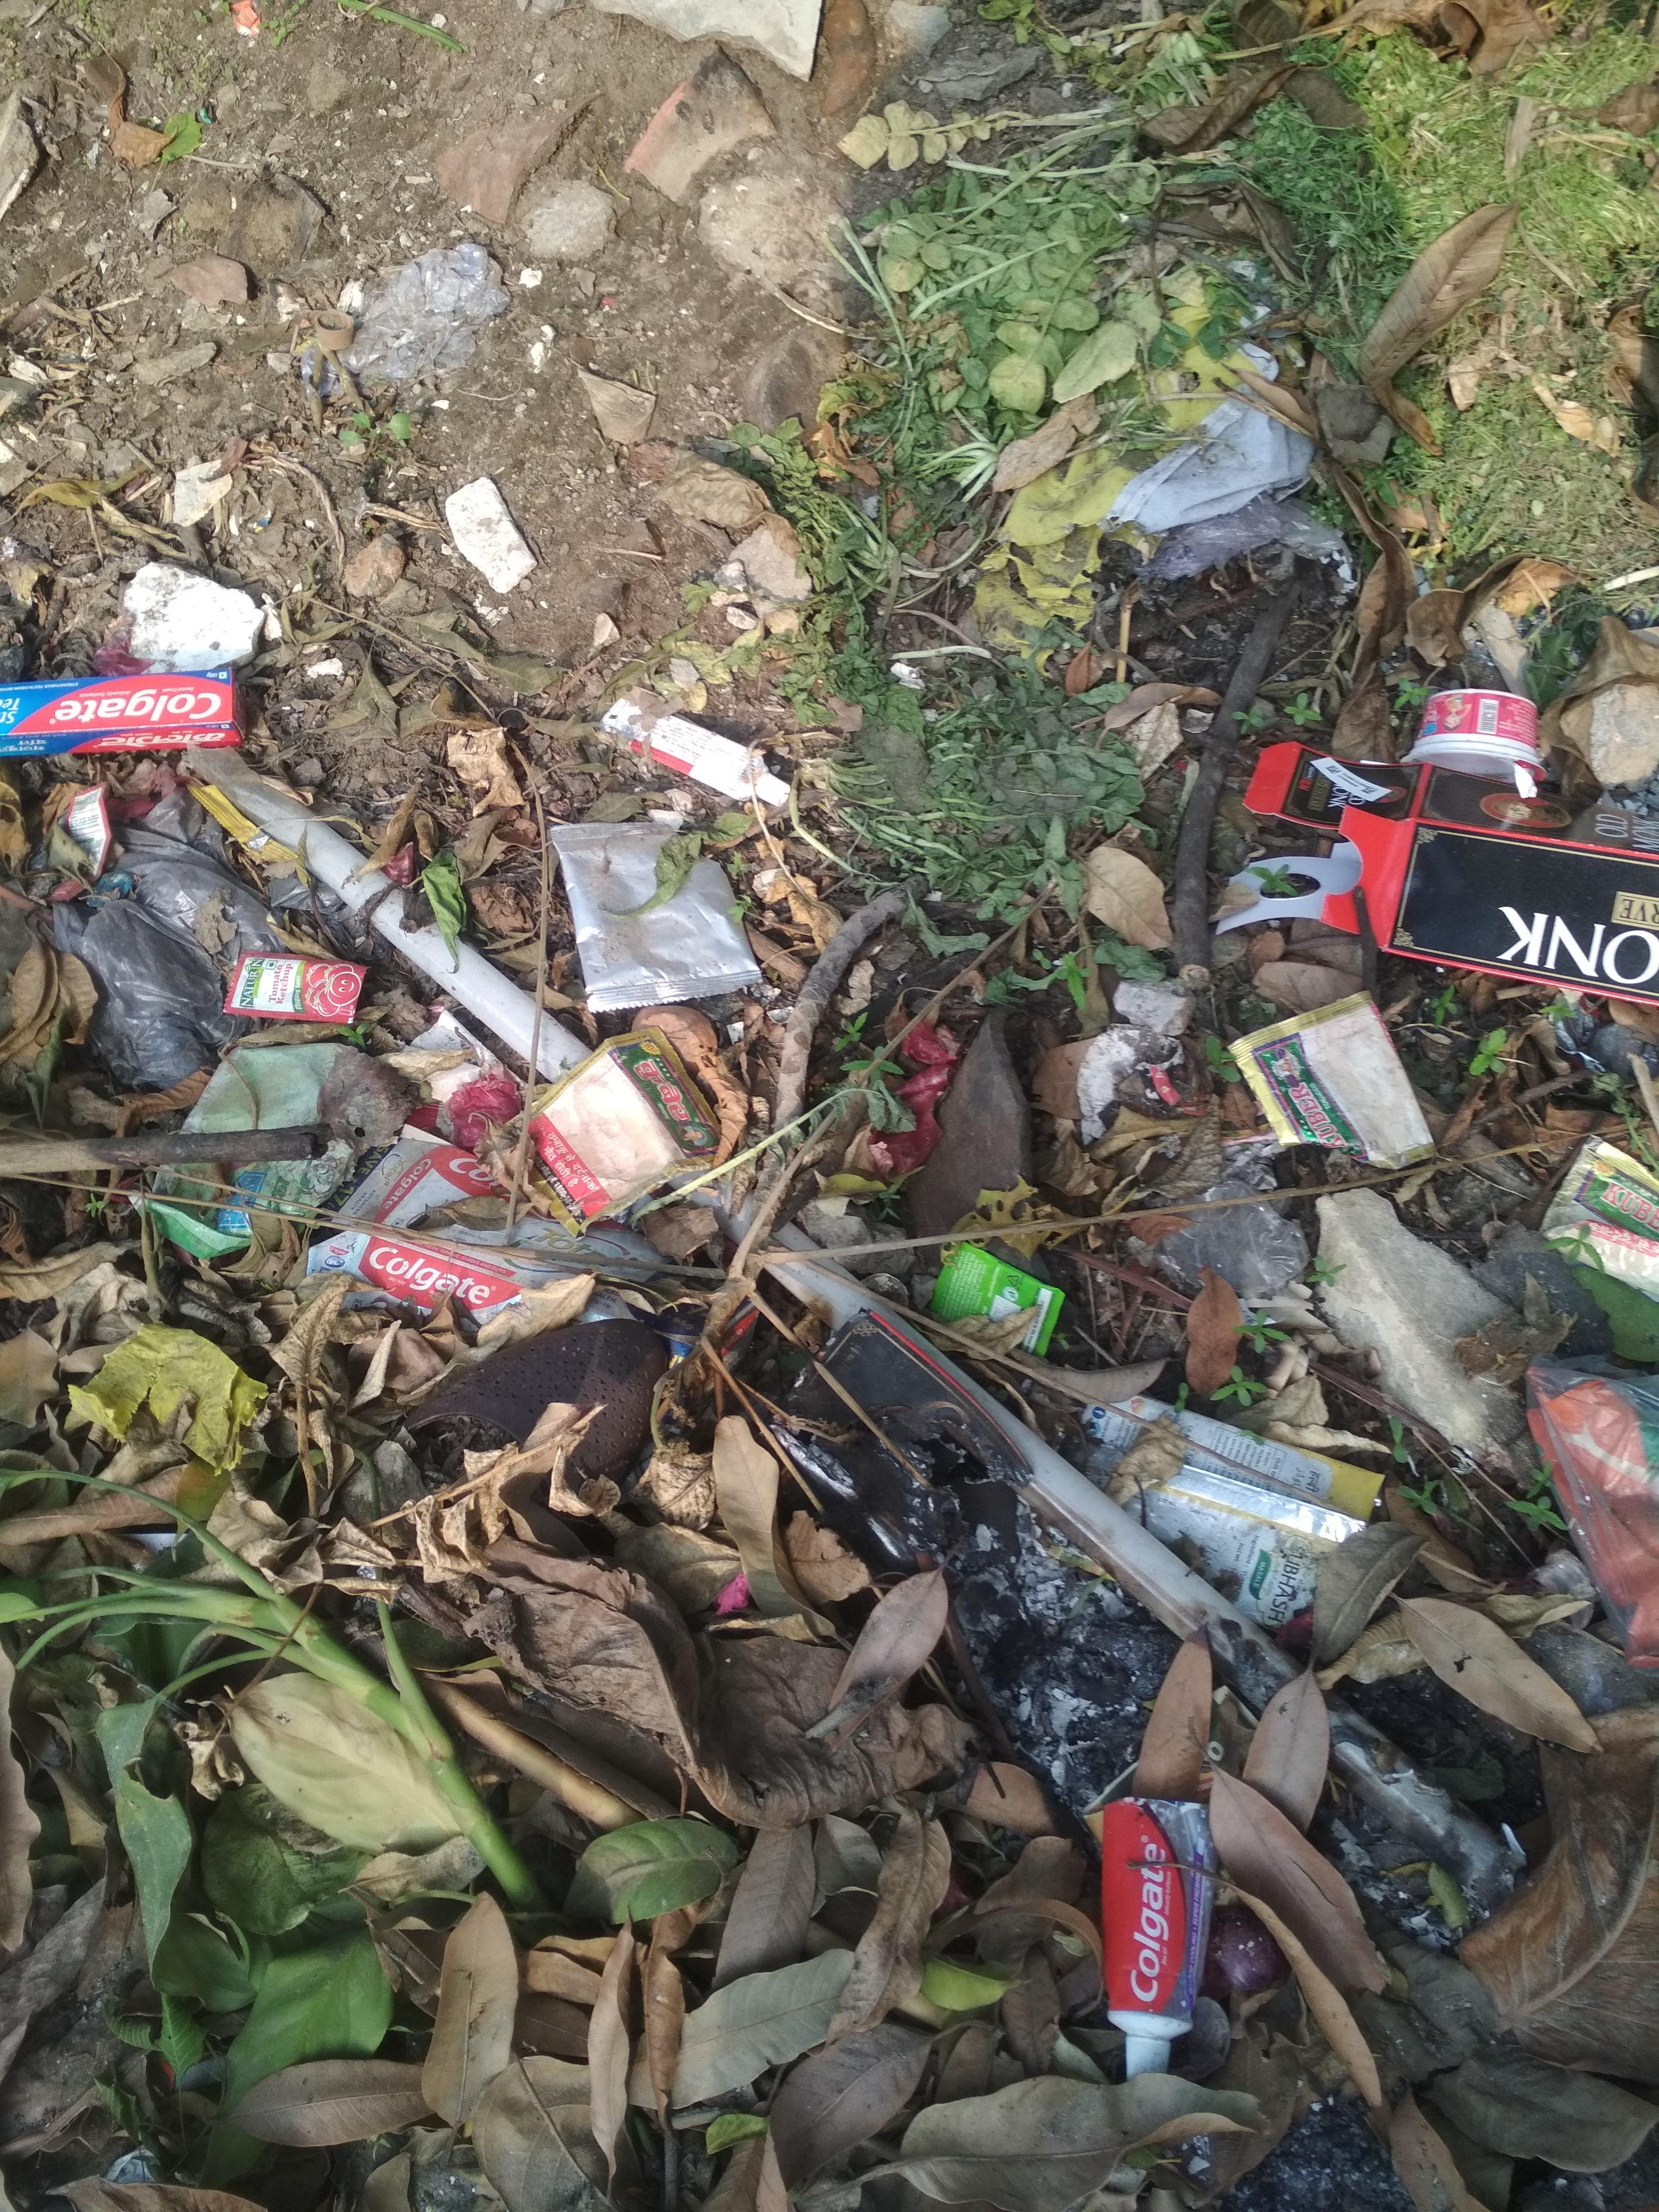trash: (0, 381, 1657, 2212)
